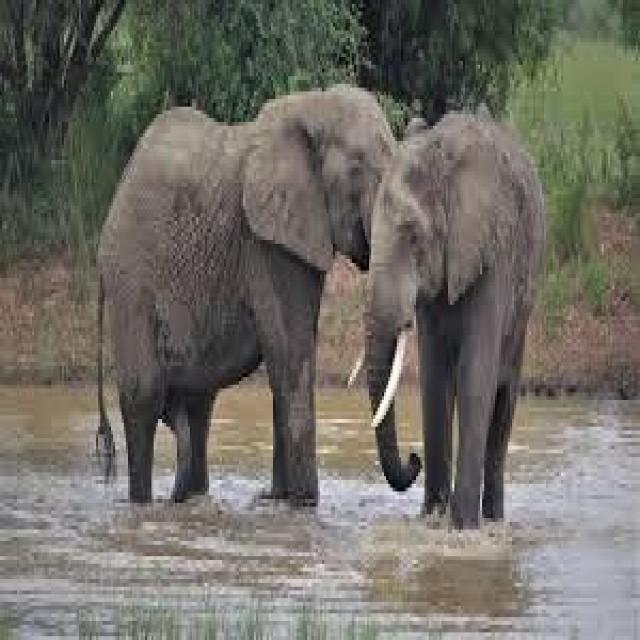Elephant: (94, 80, 546, 522), (362, 114, 538, 522)
